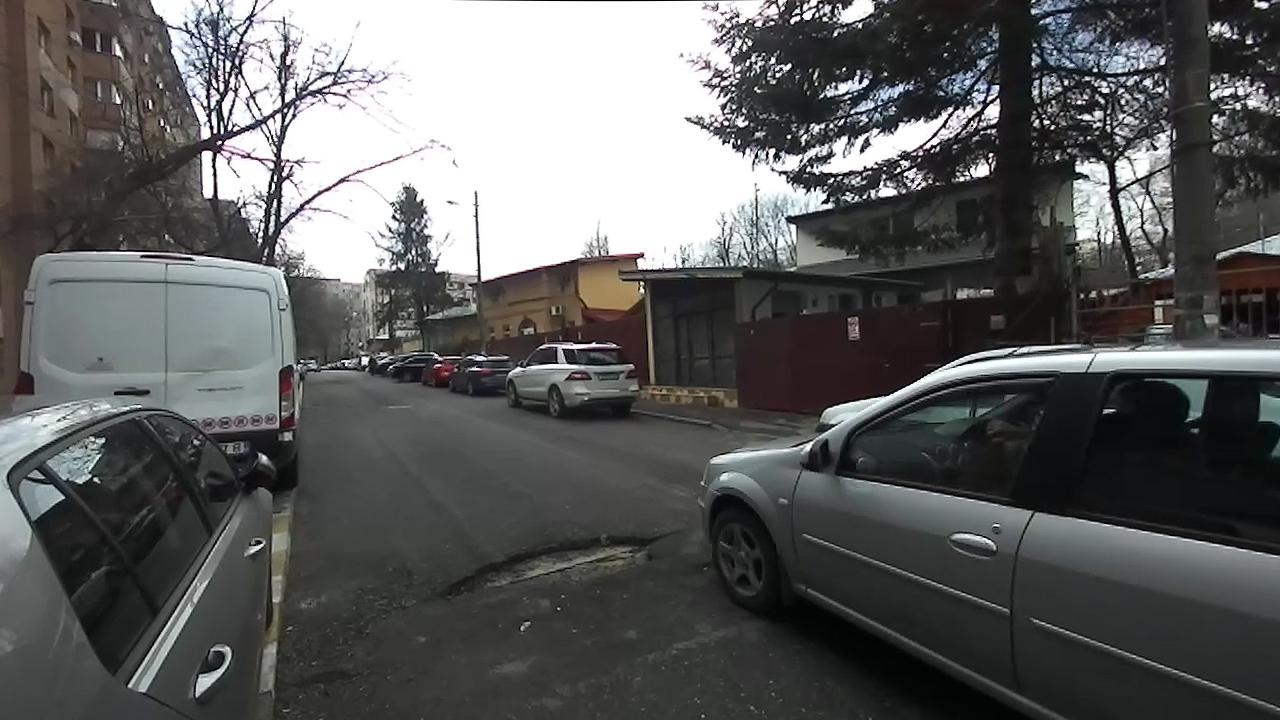pothole: (420, 528, 673, 612)
